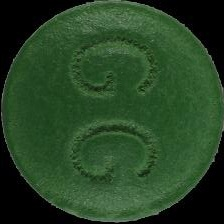51655-455: (0, 0, 224, 224)
